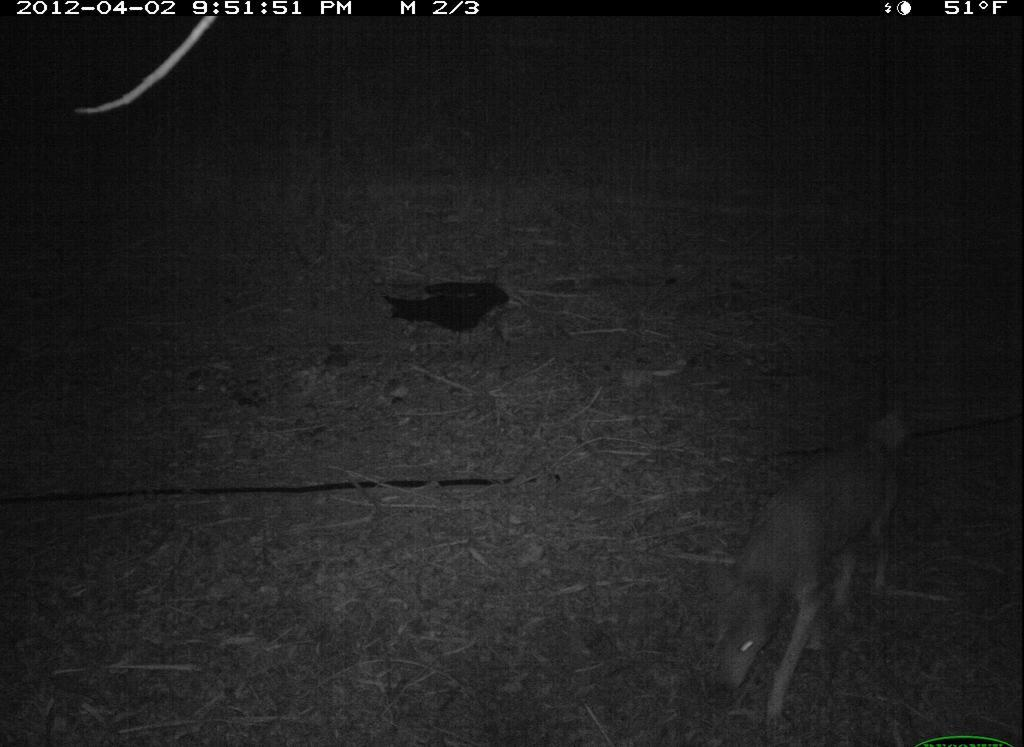coyote: (699, 408, 916, 743)
